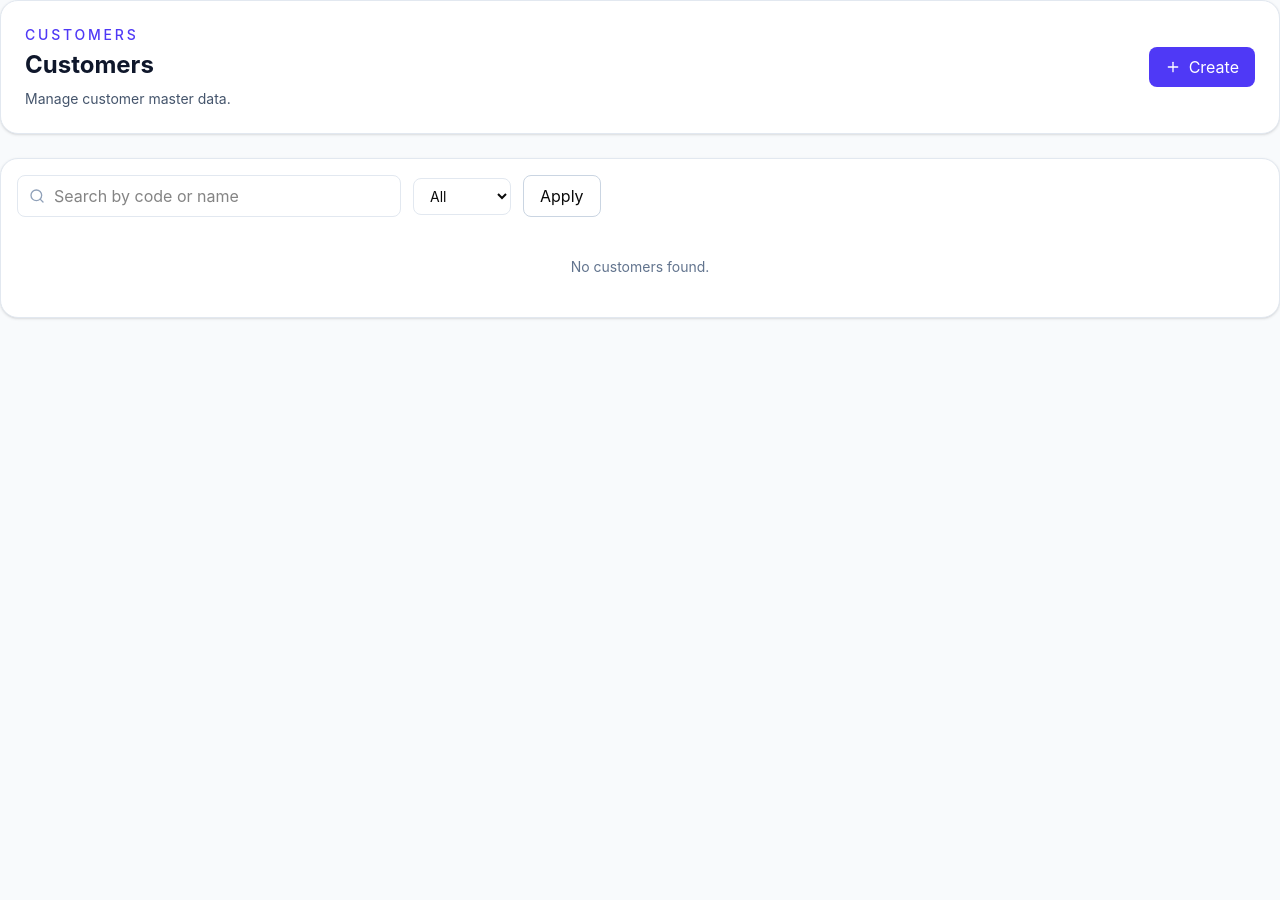
Test case: CustomersPage › shows duplicate-code API error
Click the button "Create".
click(1202, 67)  # box [1149, 47, 1255, 87]
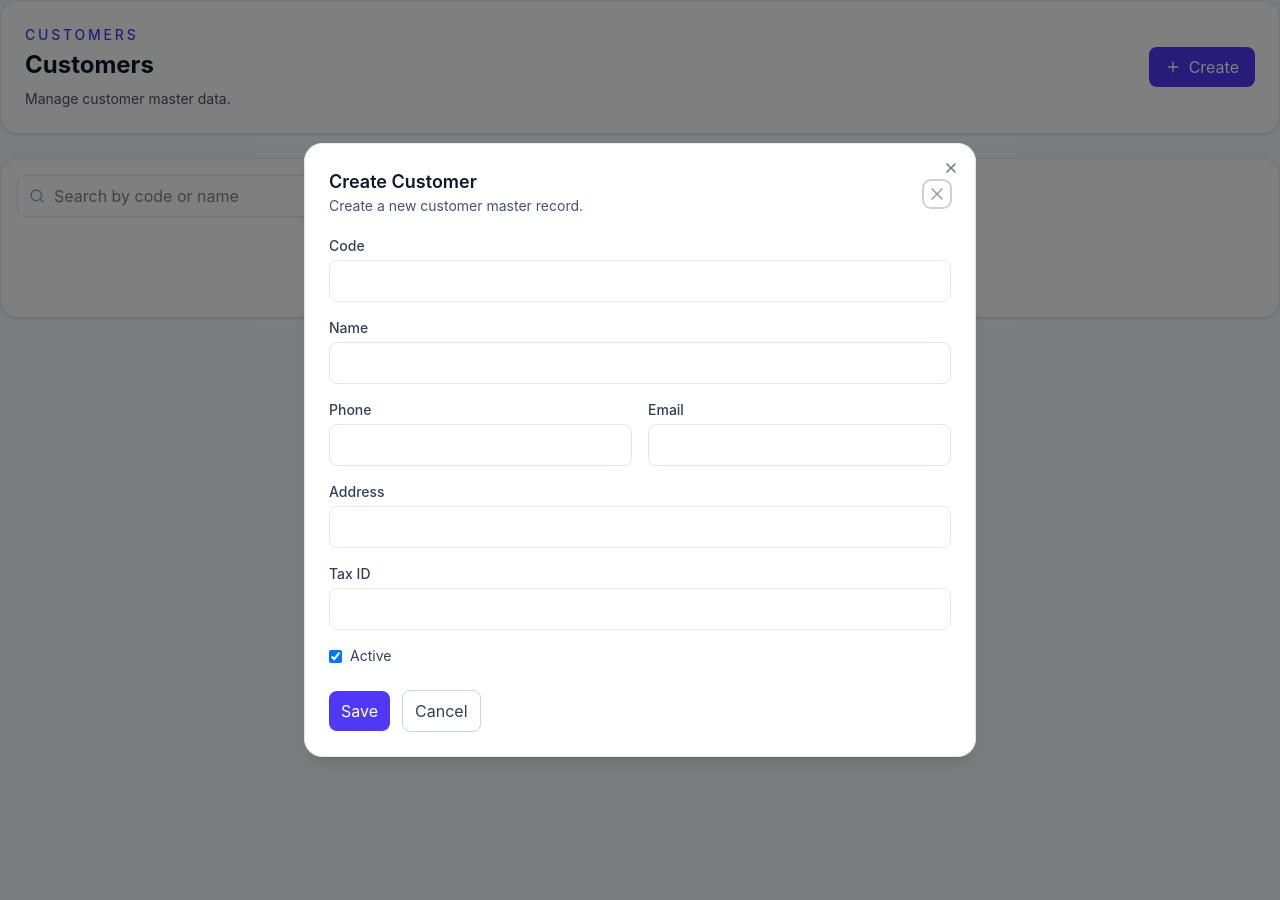
Type "DUP" into the field labelled "Code".
click(640, 281); type("DUP")  # box [329, 260, 951, 302]
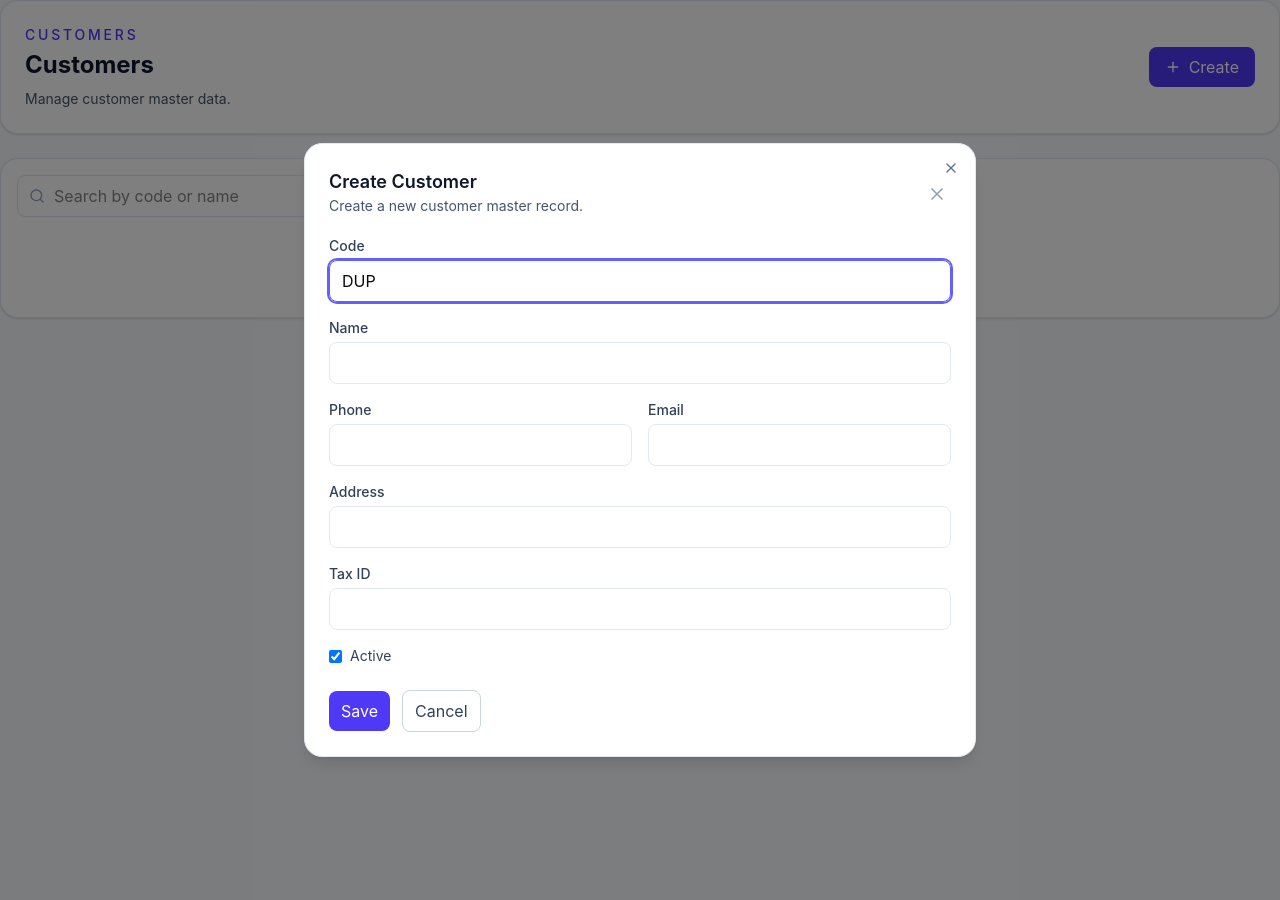
Type "DupCustomer" into the field labelled "Name".
click(640, 363); type("DupCustomer")  # box [329, 342, 951, 384]
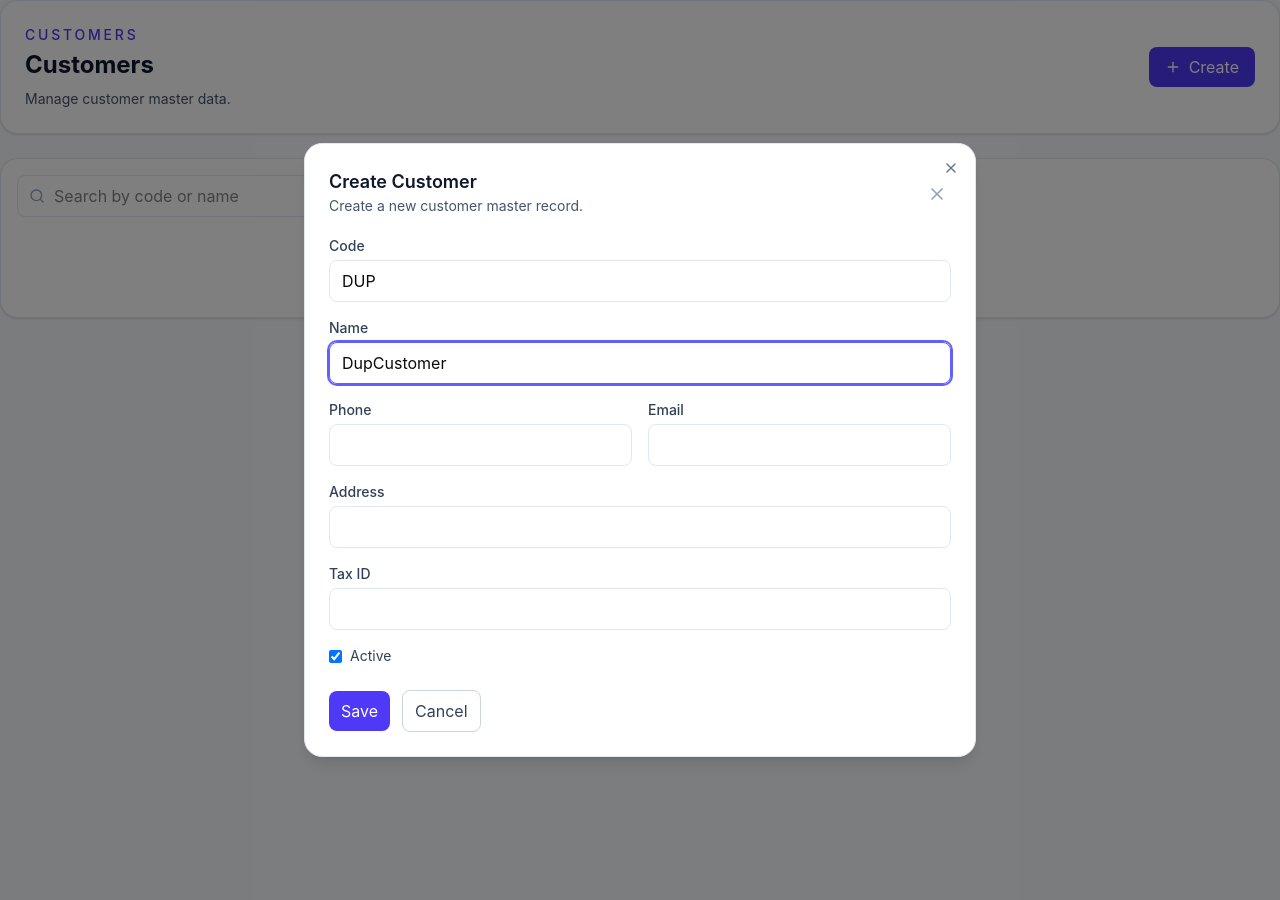
Click the button "Save".
click(360, 711)  # box [329, 691, 390, 731]
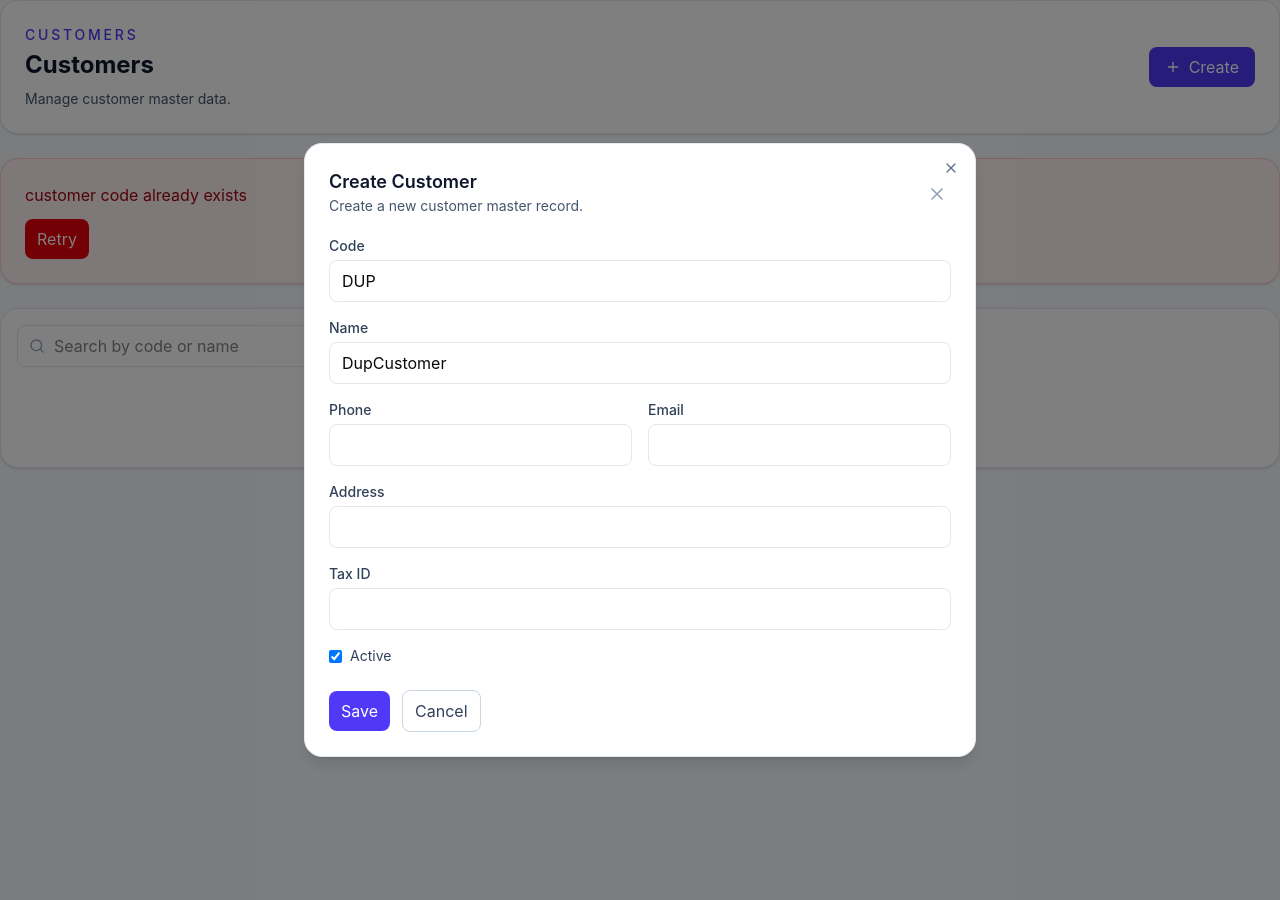
Expected: the text "customer code already exists" is shown, [25, 185, 247, 205]
